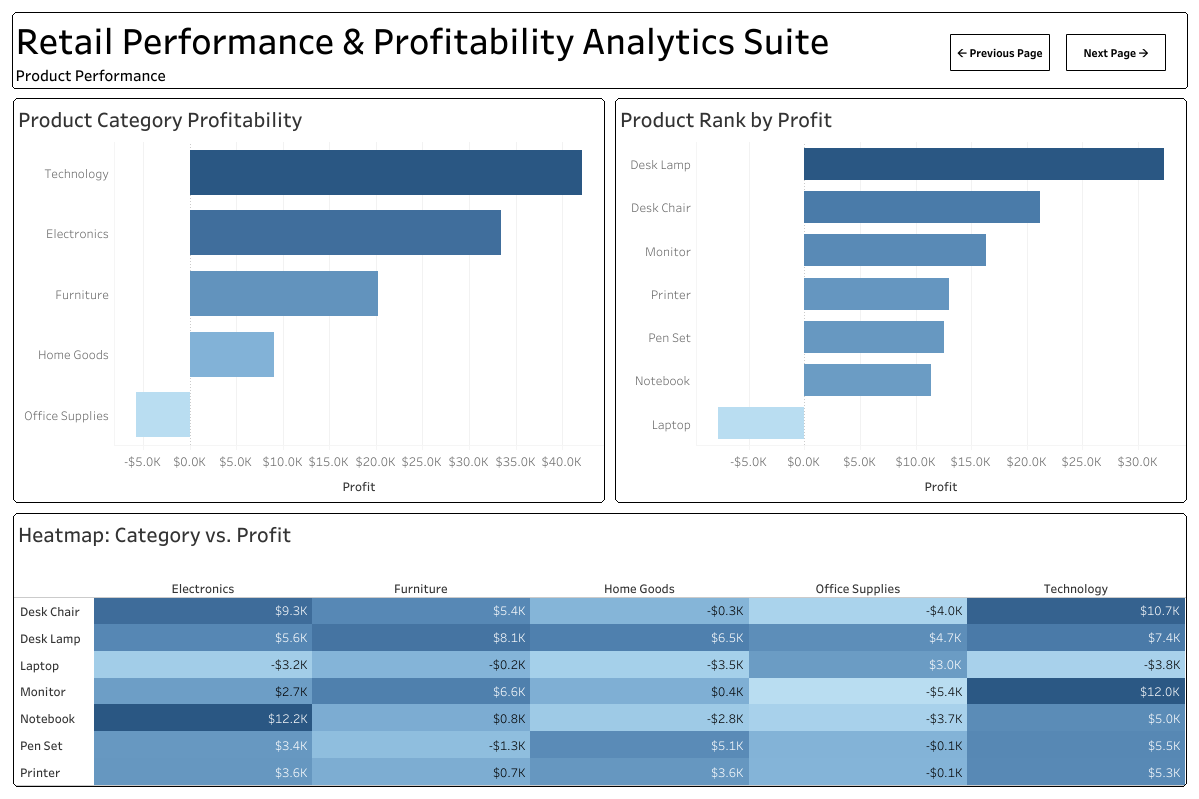

The dashboard page shown, as its layout file describes it:
{"tool":"tableau","page":{"name":"Product Performance","canvas":[1200,800],"ordinal":3},"visuals":[{"type":"text","box":[8,8,1184,85]},{"type":"dashboard-object","box":[950,34,100,37]},{"type":"dashboard-object","box":[1066,34,100,37]},{"type":"worksheet","title":"Prod Cat Profit","mark":"Automatic","rows":["product_category"],"cols":["profit"],"box":[8,93,602,415]},{"type":"worksheet","title":"Product Profit","mark":"Automatic","rows":["product_name"],"cols":["profit"],"box":[610,93,582,415]},{"type":"worksheet","title":"Cat v Prof Heatmap","mark":"Automatic","rows":["product_name"],"cols":["product_category"],"box":[8,508,1184,284]}]}

Visuals, with their boxes in screenshot pixels (x1, y1, x2, y2), scaled from the page's 1200x800 canvas onto the 1199x799 screenshot:
text: [8,8,1191,93]
dashboard-object: [949,34,1049,71]
dashboard-object: [1065,34,1165,71]
"Prod Cat Profit" worksheet: [8,93,609,507]
"Product Profit" worksheet: [609,93,1191,507]
"Cat v Prof Heatmap" worksheet: [8,507,1191,791]
